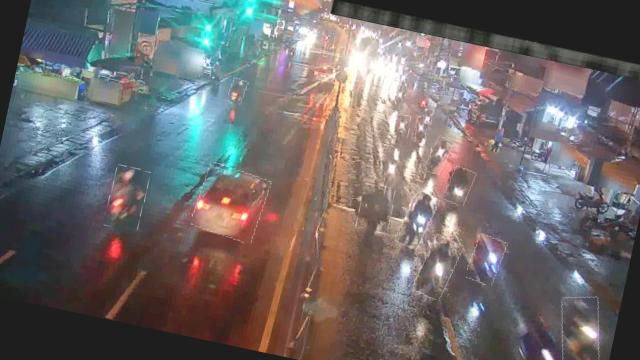Bike: (552, 292, 608, 360), (414, 234, 461, 302), (104, 164, 150, 233), (506, 309, 566, 360), (397, 188, 438, 250), (354, 182, 396, 234), (466, 234, 506, 287), (444, 164, 476, 206), (426, 135, 452, 175), (226, 76, 247, 104), (412, 115, 429, 144), (392, 113, 411, 138), (422, 108, 434, 130)
Car: (190, 162, 270, 243)
